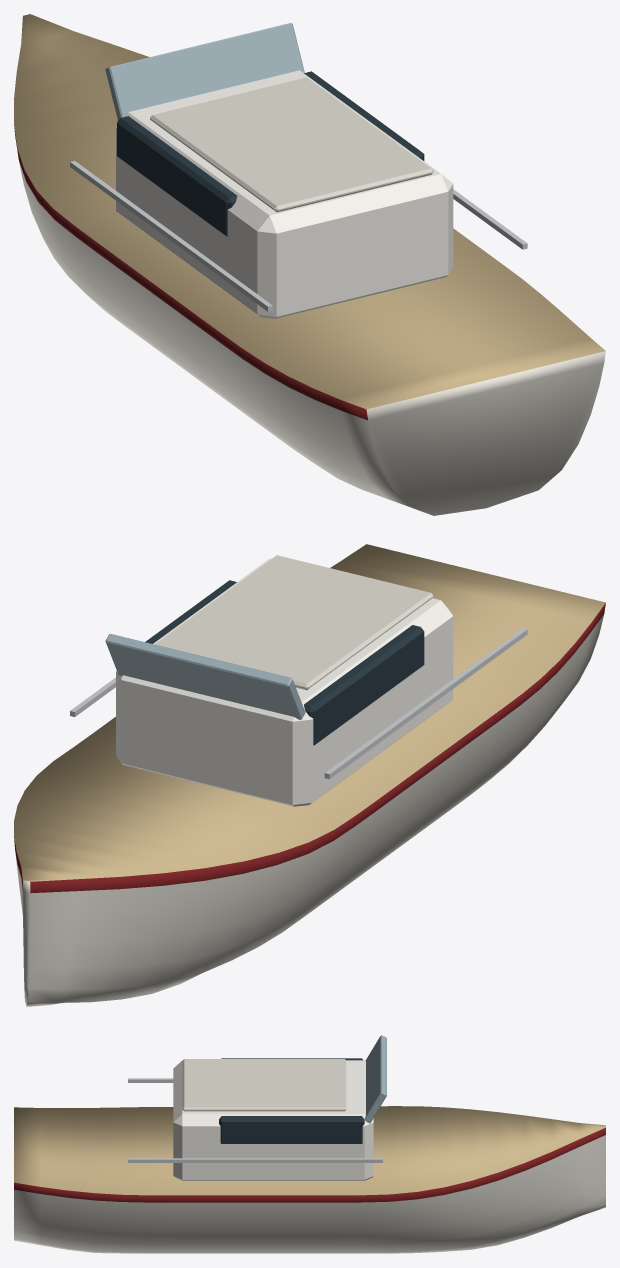
The model's file is motor.glb.
3 views of the same model, one above another, from view 1: azimuth 30°, elevation 25°; view 2: azimuth 150°, elevation 25°; view 3: azimuth 270°, elevation 25° (orthographic). The views are drawn at different scales.
Visible parts, largest first — view 1: hull, Cube, Cube.003, Cube.002, Cube.001, Cube.004, Cube.005; view 2: hull, Cube, Cube.003, Cube.002, Cube.001, Cube.004; view 3: hull, Cube, Cube.003, Cube.001, Cube.002, Cube.005.
Boxes of the visible parts, x1=… form: hull: x1=14, y1=14, x2=605, y2=515; Cube: x1=116, y1=70, x2=453, y2=318; Cube.003: x1=150, y1=77, x2=433, y2=212; Cube.002: x1=105, y1=23, x2=304, y2=120; Cube.001: x1=117, y1=71, x2=424, y2=236; Cube.004: x1=70, y1=160, x2=272, y2=311; Cube.005: x1=453, y1=189, x2=527, y2=249; hull: x1=14, y1=544, x2=605, y2=1006; Cube: x1=116, y1=558, x2=453, y2=806; Cube.003: x1=155, y1=555, x2=433, y2=690; Cube.002: x1=105, y1=634, x2=305, y2=719; Cube.001: x1=145, y1=580, x2=424, y2=745; Cube.004: x1=324, y1=628, x2=527, y2=779; hull: x1=14, y1=1106, x2=605, y2=1253; Cube: x1=173, y1=1060, x2=373, y2=1180; Cube.003: x1=182, y1=1059, x2=346, y2=1111; Cube.001: x1=219, y1=1058, x2=364, y2=1143; Cube.002: x1=364, y1=1035, x2=386, y2=1123; Cube.005: x1=128, y1=1158, x2=382, y2=1162.
Size of the model in its own units: 2.3 by 2.11 by 6.5.
